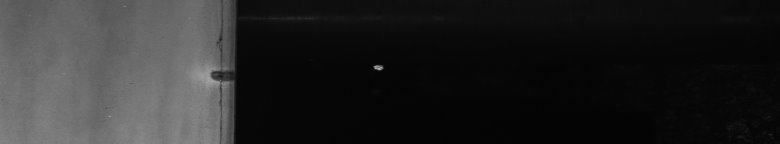hb: (198, 5, 224, 136)
